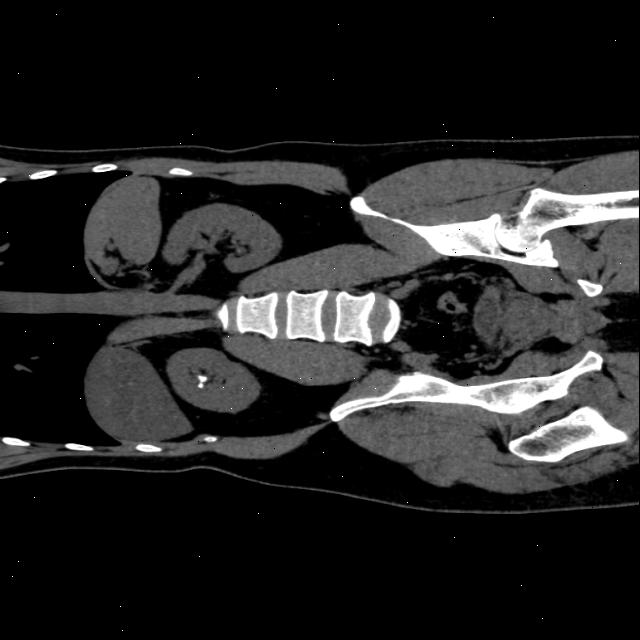kidneystone: (196, 374, 208, 388)
